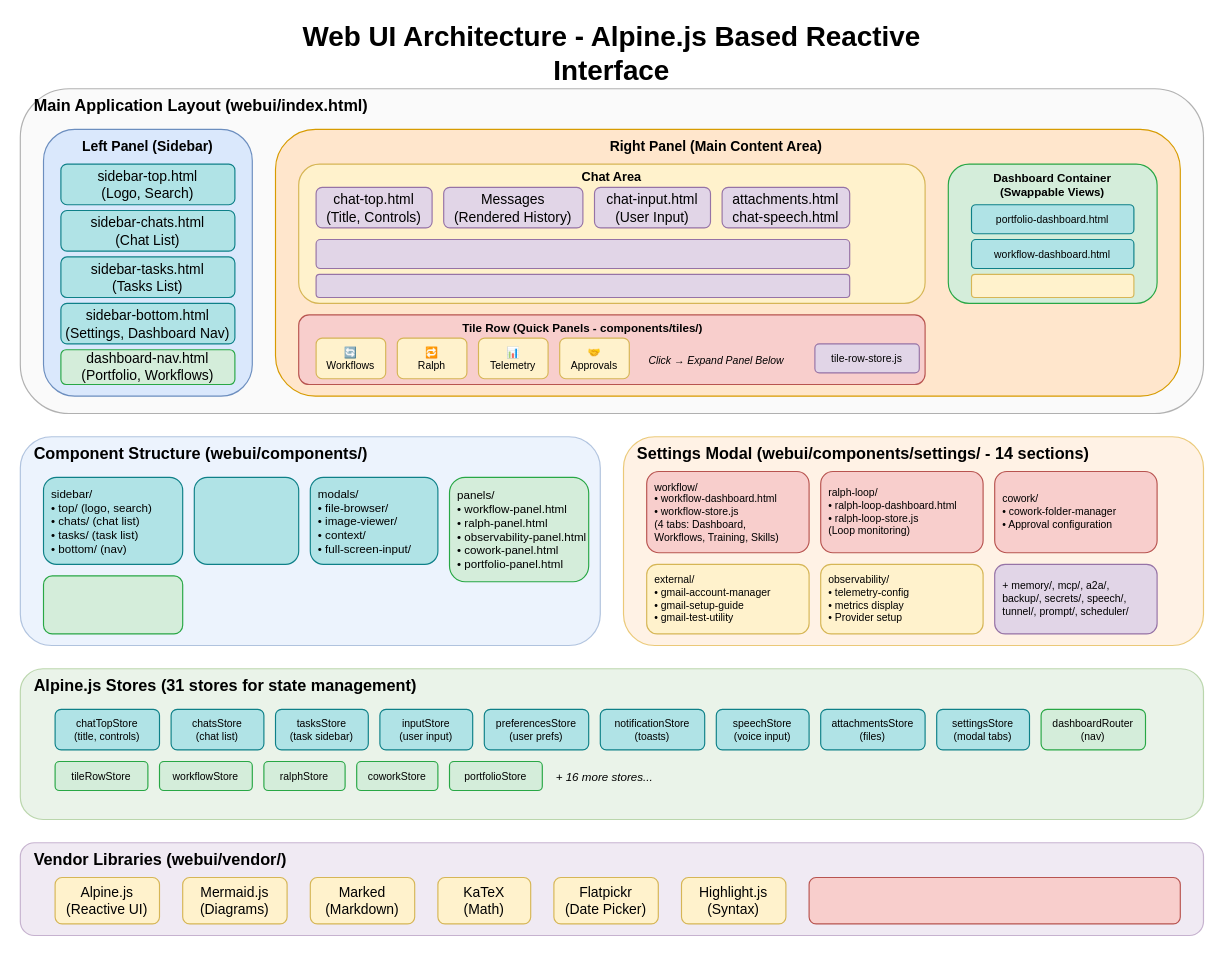
Image size: 1224x956. Some labels were removed from this diagram. The shapes that lost their labels are listed below. From the top down, each one's centre as x and y in pixels, then its label:
At pixel 582 253: "Input Row (Textarea + Send Button + Voice)".
At pixel 582 285: "Action Buttons (Send, Voice, Attach)".
At pixel 1052 285: "dashboard-router.js".
At pixel 246 520: "chat/ • top-section/ • input/ • attachments/ • speech/".
At pixel 112 604: "tiles/ • tile-row.html • tile-row-store.js".
At pixel 994 900: "Stylesheets: index.css, messages.css, toast.css, modals.css, buttons.css".
